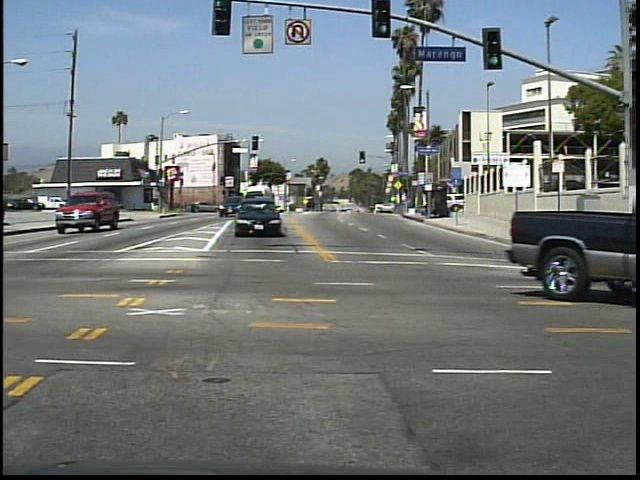person: (64, 192, 80, 220)
